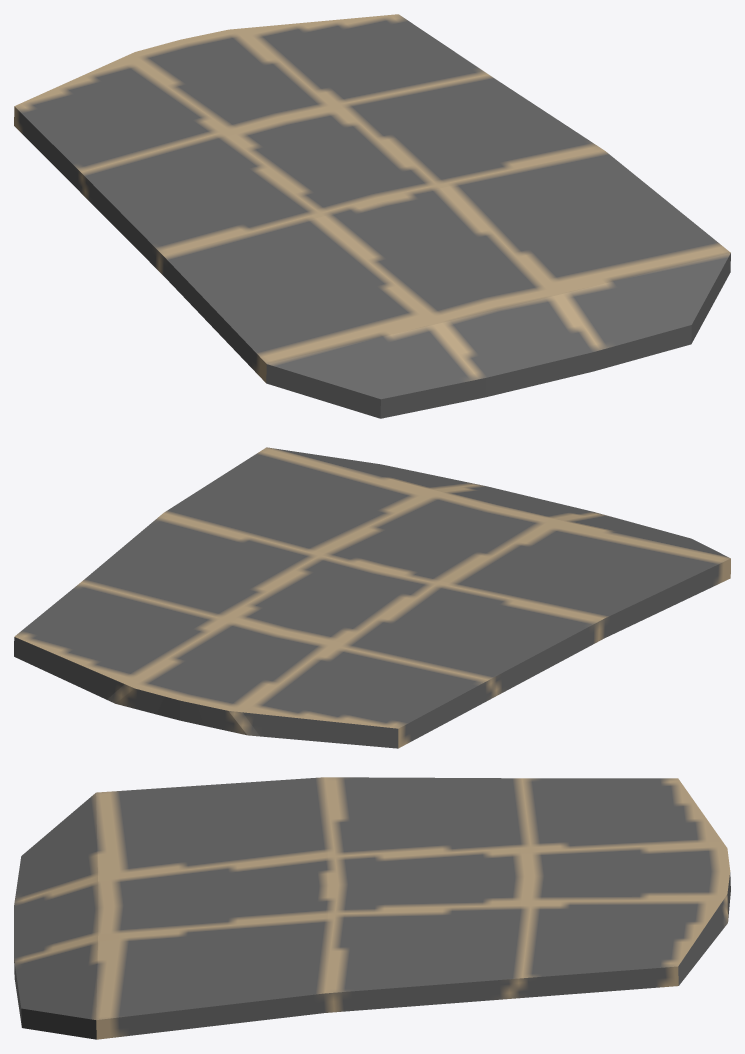
File: gunespaneli.glb
The picture shows the model from 3 angles, top to bottom: view 1: azimuth 30°, elevation 25°; view 2: azimuth 150°, elevation 25°; view 3: azimuth 270°, elevation 25°; orthographic projection.
Visible parts, largest first — view 1: GunesPaneli; view 2: GunesPaneli; view 3: GunesPaneli.
Boxes of the visible parts, bbox=[...] form: GunesPaneli: bbox=[14, 14, 730, 418]; GunesPaneli: bbox=[14, 447, 730, 748]; GunesPaneli: bbox=[14, 777, 730, 1039].
Size of the model in its own units: 0.3485 by 0.0589 by 0.4683.
1 material, 1 textured.
